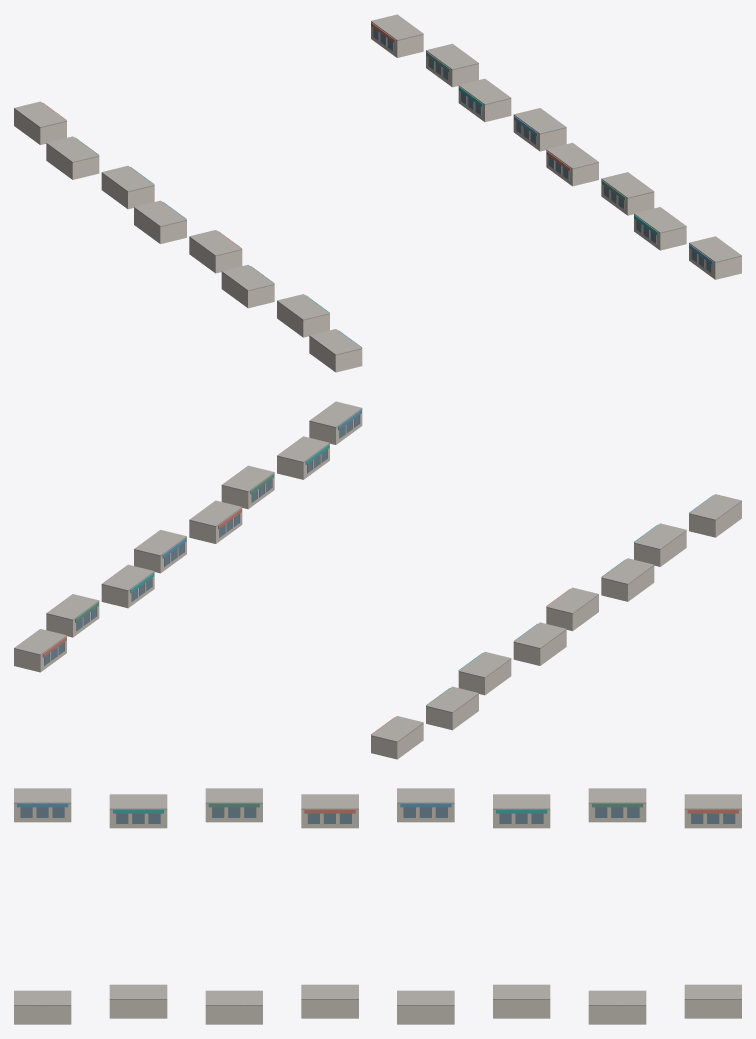
The model's file is farmgate-shopfronts.gltf.
The picture shows the model from 3 angles, top to bottom: view 1: azimuth 30°, elevation 25°; view 2: azimuth 150°, elevation 25°; view 3: azimuth 270°, elevation 25°; orthographic projection. The views are drawn at different scales.
Parts seen in each view (by area): view 1: farmgate-shopfronts; view 2: farmgate-shopfronts; view 3: farmgate-shopfronts.
Part boxes in pixels (x1,y1,x2,y2): farmgate-shopfronts: (14,14,741,372); farmgate-shopfronts: (14,401,741,759); farmgate-shopfronts: (14,788,741,1024).
Size of the model in its own units: 107 by 4.53 by 152.
